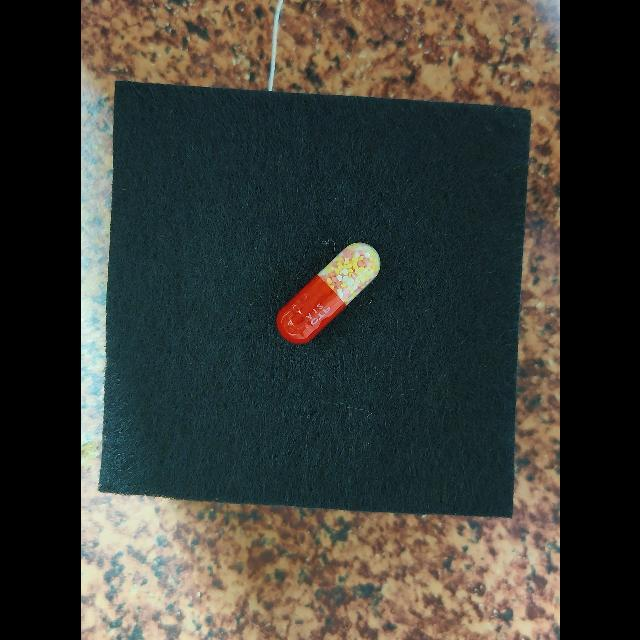Intact Capsule: (276, 243, 380, 344)
